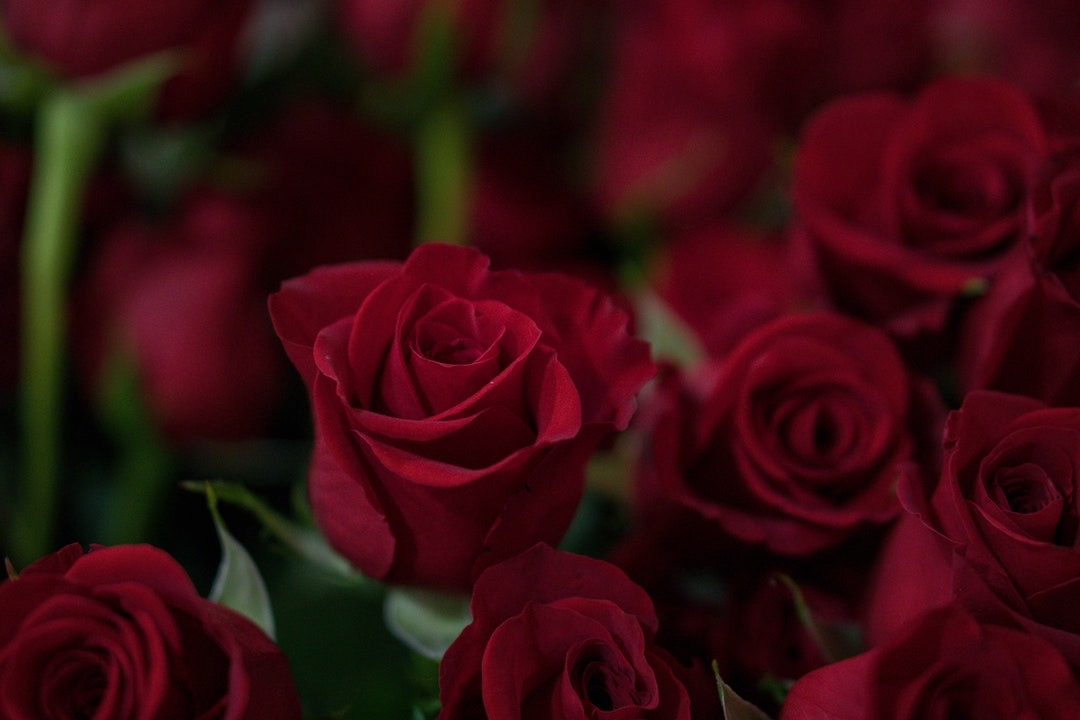rose: (266, 238, 654, 573), (804, 80, 1056, 330), (682, 310, 909, 557), (3, 539, 284, 719), (458, 554, 675, 712), (910, 397, 1072, 603), (775, 616, 1080, 720)
